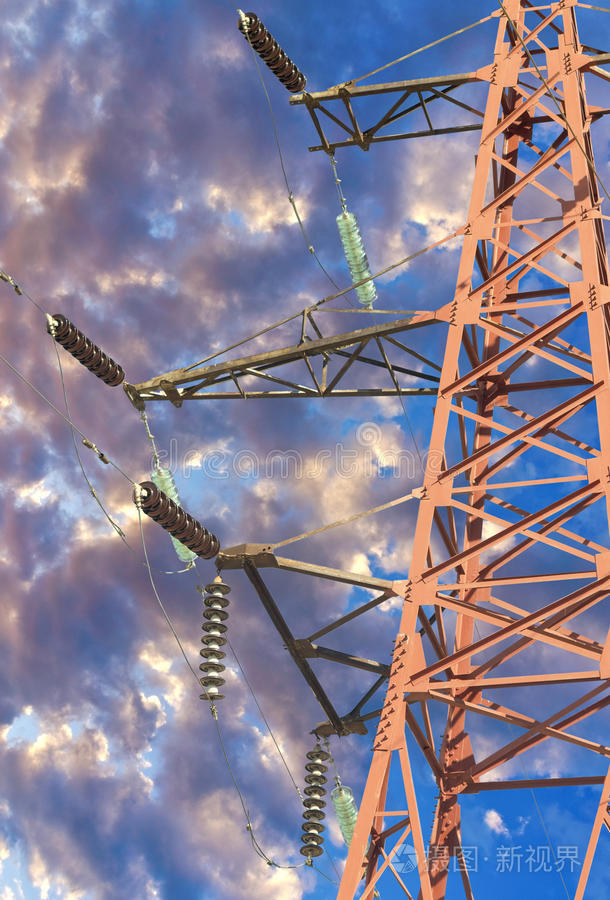insulator: (131, 482, 223, 557), (47, 310, 124, 387), (237, 14, 309, 92), (152, 464, 199, 564), (336, 207, 380, 304), (193, 580, 226, 699), (300, 746, 331, 858), (329, 784, 357, 852)
